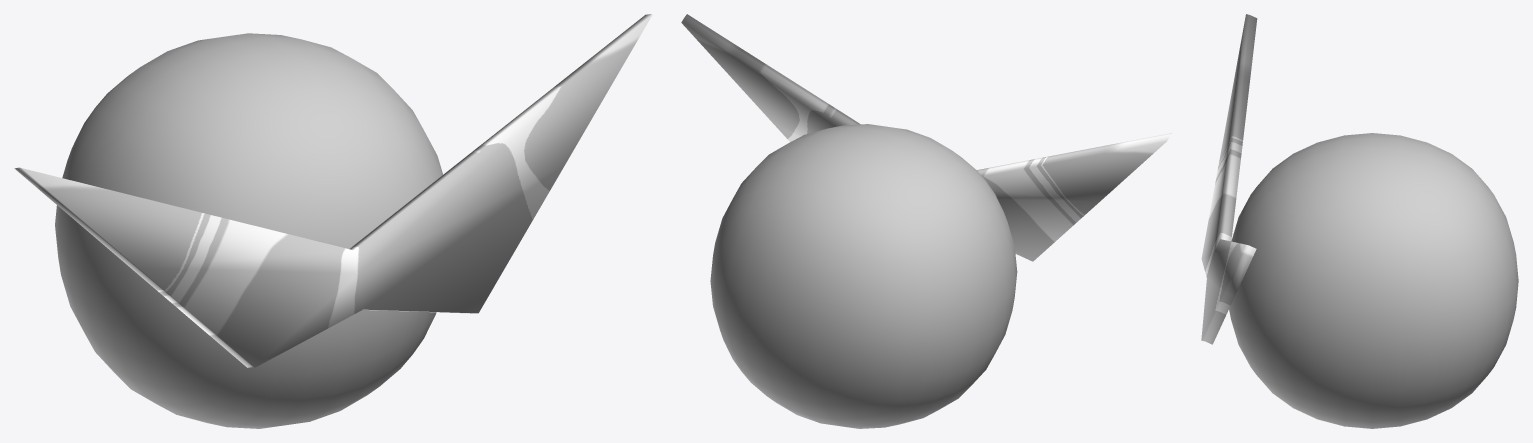
Rendered from Boidv6.fbx.
The picture shows the model from 3 angles, left to right: view 1: azimuth 30°, elevation 25°; view 2: azimuth 150°, elevation 25°; view 3: azimuth 270°, elevation 25°; orthographic projection. The views are drawn at different scales.
Visible parts, largest first — view 1: Boid_V3; view 2: Boid_V3; view 3: Boid_V3.
Part boxes in pixels (x1,y1,x2,y2): Boid_V3: (14,14,652,428); Boid_V3: (681,14,1172,428); Boid_V3: (1201,14,1518,428).
Bounding box in the file's own units: 423 × 243 × 246.
Materials: 1 (1 with a texture image).
